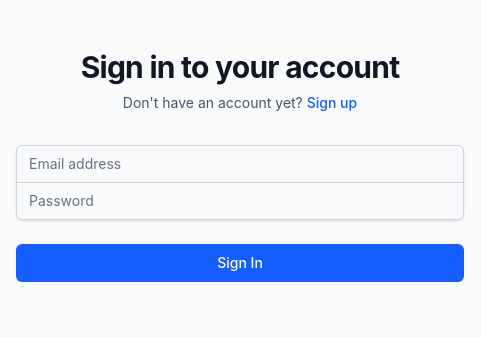
it: Login › handles non-error objects during login
Type "a@b.com" into the field with placeholder "Email address". click: (240, 164)
box: [16, 144, 464, 182]
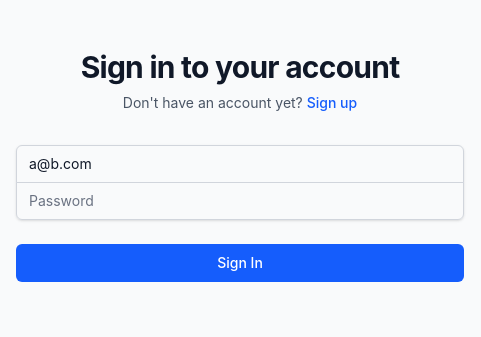
Type "pass" into the password field with placeholder "Password". click: (240, 200)
box: [16, 182, 464, 220]
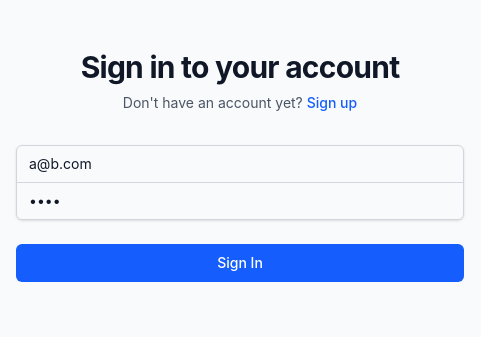
Click the button "Sign In". click: (240, 262)
box: [16, 244, 464, 282]
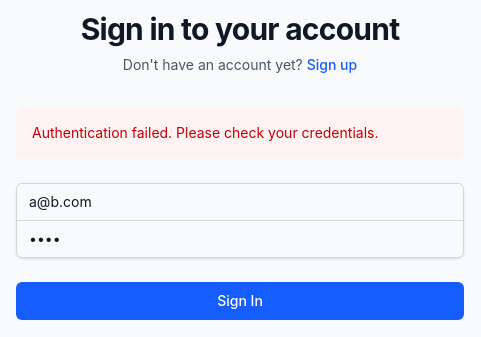
Result: the text "Authentication failed. Please check your credentials." is shown at [32, 124, 378, 140]
